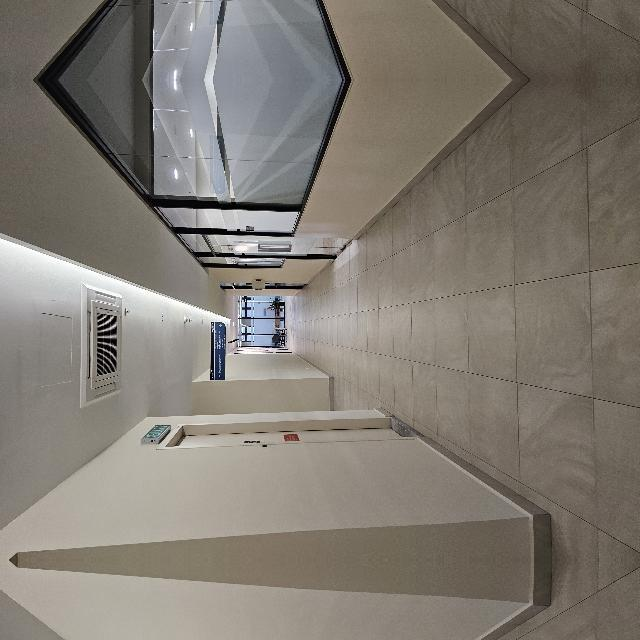door: (106, 232, 142, 508), (296, 280, 338, 452), (106, 611, 142, 640)
